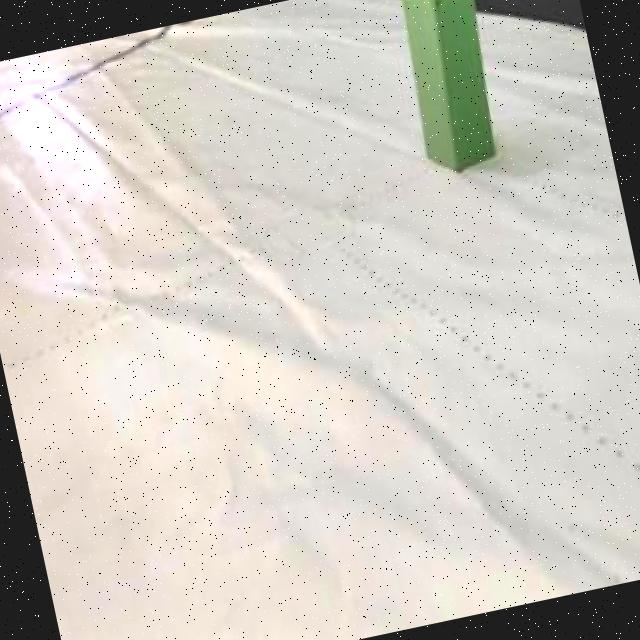greenbox: (387, 0, 508, 177)
